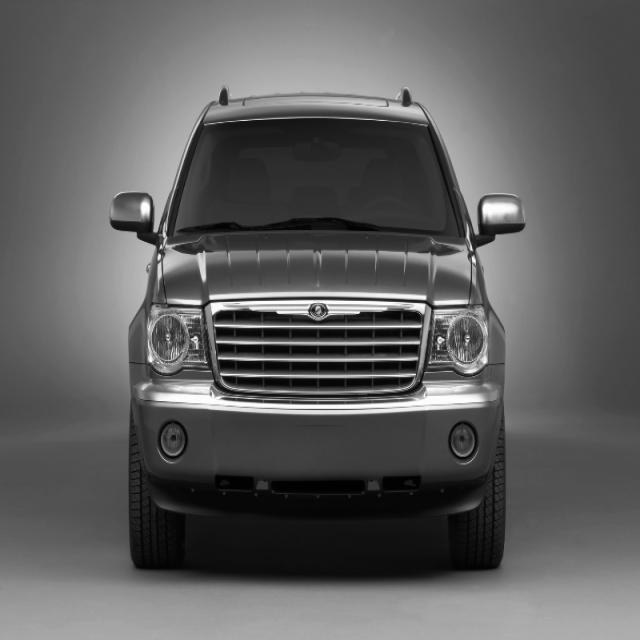car: (108, 84, 526, 572)
